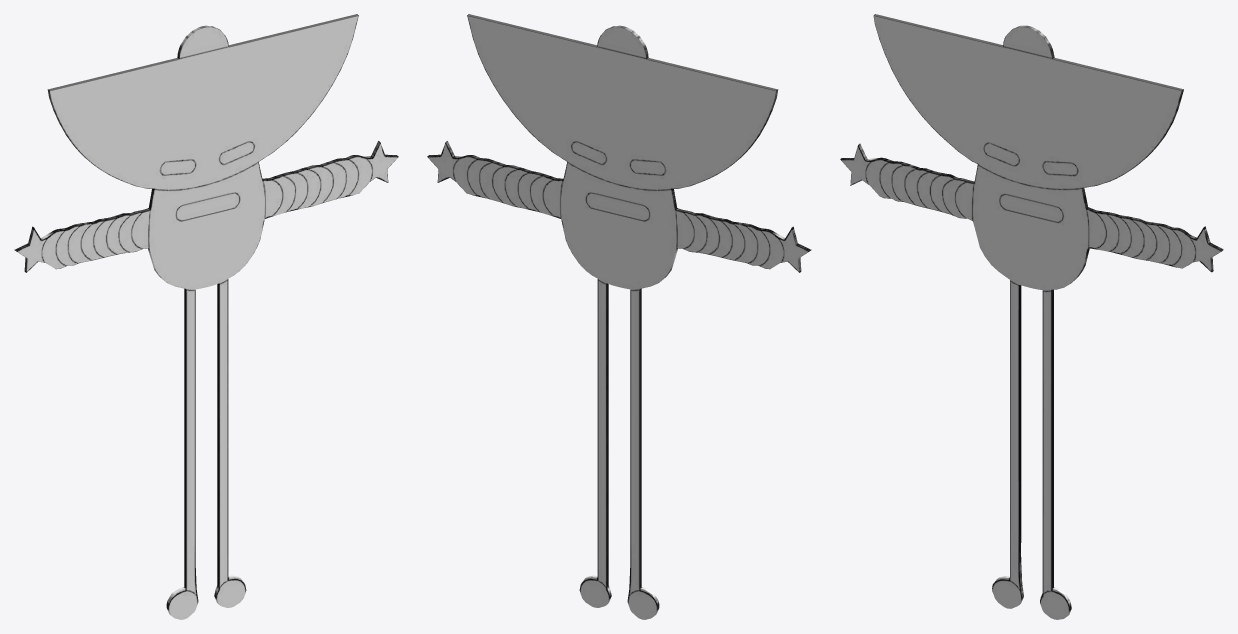
Rendered from 16_jaki.fbx.
3 views of the same model, side by side, from view 1: azimuth 30°, elevation 25°; view 2: azimuth 150°, elevation 25°; view 3: azimuth 330°, elevation 25° (orthographic).
Visible parts, largest first — view 1: planarTrimmedSurface26; view 2: planarTrimmedSurface26; view 3: planarTrimmedSurface26.
Part boxes in pixels (x1,y1,x2,y2): planarTrimmedSurface26: (14,14,398,619); planarTrimmedSurface26: (427,14,811,619); planarTrimmedSurface26: (840,14,1223,619).
Bounding box in the file's own units: 20.7 × 30.34 × 0.1803.
1 material, 1 textured.
